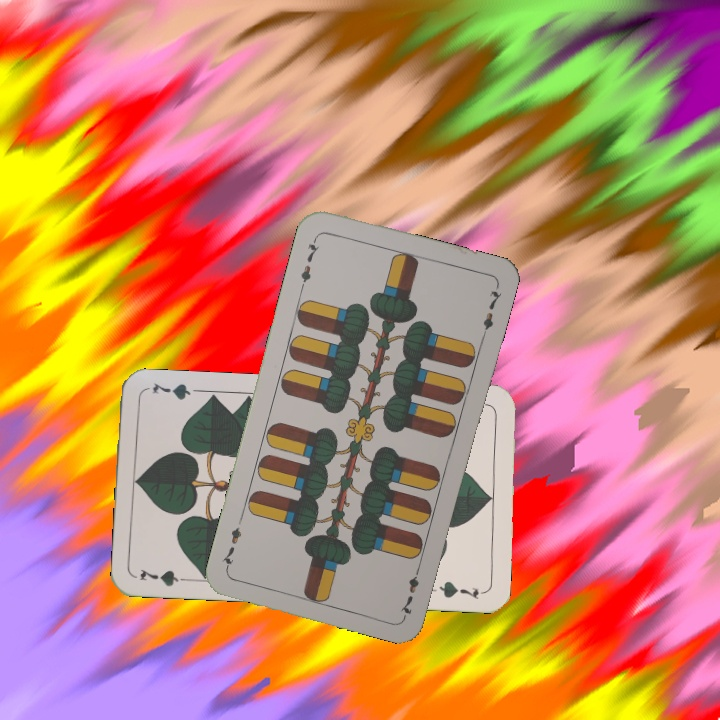E7: (396, 561, 424, 619), (296, 233, 322, 291)
G7: (136, 564, 194, 589)
